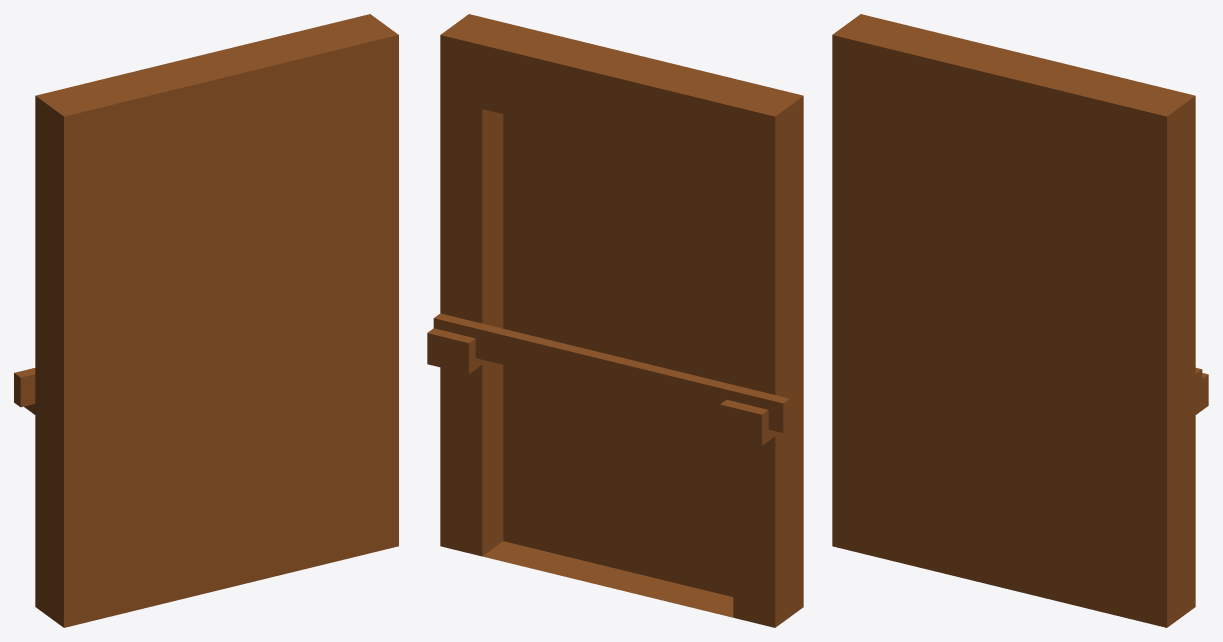
The model's file is Door_Closed (1).fbx.
The picture shows the model from 3 angles, left to right: view 1: azimuth 30°, elevation 25°; view 2: azimuth 150°, elevation 25°; view 3: azimuth 330°, elevation 25°; orthographic projection.
Parts seen in each view (by area): view 1: Cube.001; view 2: Cube.001; view 3: Cube.001.
Part boxes in pixels (x1,y1,x2,y2): Cube.001: [14, 14, 398, 627]; Cube.001: [427, 14, 803, 627]; Cube.001: [832, 14, 1208, 627].
Size of the model in its own units: 282 by 394 by 58.32.
